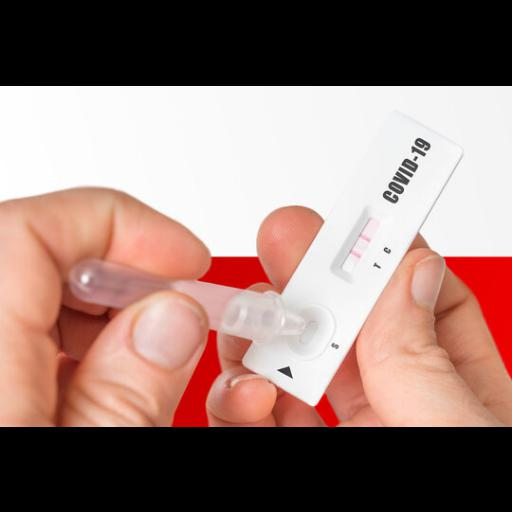Pos: (242, 110, 467, 408)
